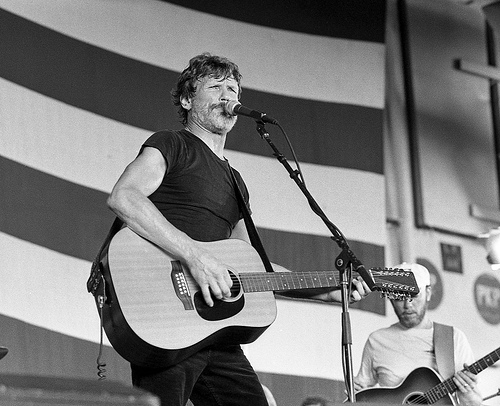guitar: (95, 223, 419, 373)
